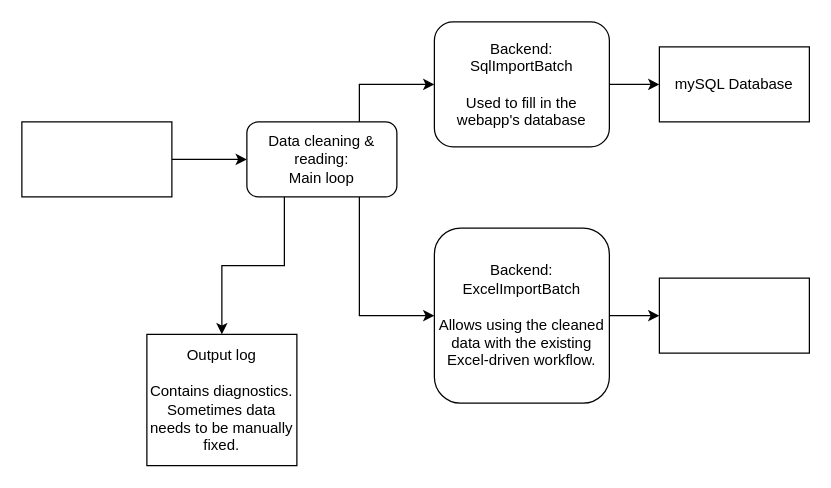
Some shapes in this 831 by 488 pixel diagram are drawn without their labels. The shapes that lost their labels are listed below. From the top down, each one's box as (x1, y1, x2, y2) in pixels, then its label:
(21, 121, 172, 197): Input Excel Workbooks
(658, 277, 809, 353): Unified & cleaned excel workbook
